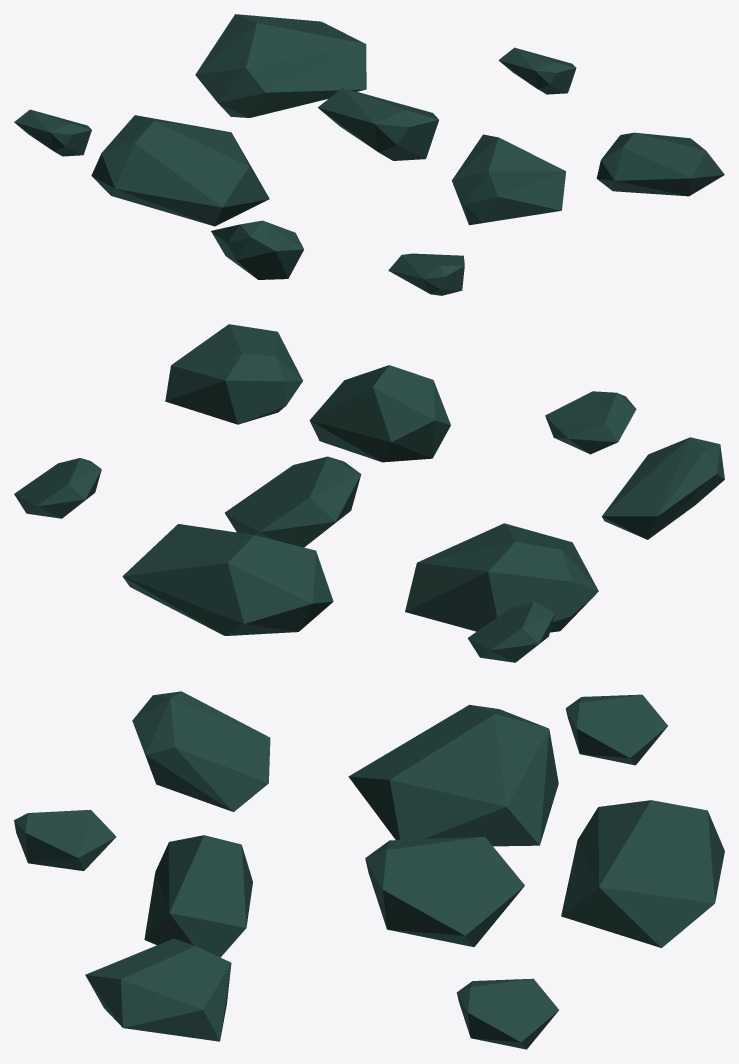
The model's file is m_collapse.glb.
3 views of the same model, one above another, from view 1: azimuth 30°, elevation 25°; view 2: azimuth 150°, elevation 25°; view 3: azimuth 270°, elevation 25° (orthographic). The views are drawn at different scales.
Visible parts, largest first — view 1: M_Collapse.008, M_Collapse.001, M_Collapse, M_Collapse.002, M_Collapse.006, M_Collapse.007, M_Collapse.005, M_Collapse.004, M_Collapse.003; view 2: M_Collapse.008, M_Collapse.001, M_Collapse, M_Collapse.002, M_Collapse.006, M_Collapse.007, M_Collapse.005, M_Collapse.003, M_Collapse.004; view 3: M_Collapse.001, M_Collapse.008, M_Collapse.006, M_Collapse.007, M_Collapse.002, M_Collapse, M_Collapse.004, M_Collapse.003, M_Collapse.005.
Boxes of the visible parts, x1,y1,x2,y2 form: M_Collapse.008: [195, 14, 366, 117]; M_Collapse.001: [91, 115, 269, 226]; M_Collapse: [451, 134, 565, 225]; M_Collapse.002: [596, 132, 724, 196]; M_Collapse.006: [318, 88, 438, 160]; M_Collapse.007: [211, 220, 303, 279]; M_Collapse.005: [388, 253, 464, 295]; M_Collapse.004: [14, 109, 91, 156]; M_Collapse.003: [498, 47, 576, 94]; M_Collapse.008: [122, 524, 333, 635]; M_Collapse.001: [405, 523, 598, 632]; M_Collapse: [309, 365, 450, 462]; M_Collapse.002: [165, 324, 302, 424]; M_Collapse.006: [225, 456, 361, 547]; M_Collapse.007: [602, 437, 724, 539]; M_Collapse.005: [545, 391, 636, 454]; M_Collapse.003: [14, 458, 101, 518]; M_Collapse.004: [467, 602, 555, 662]; M_Collapse.001: [348, 704, 558, 846]; M_Collapse.008: [561, 800, 724, 947]; M_Collapse.006: [365, 836, 524, 946]; M_Collapse.007: [132, 691, 270, 811]; M_Collapse.002: [85, 938, 231, 1041]; M_Collapse: [144, 835, 252, 957]; M_Collapse.004: [565, 694, 667, 765]; M_Collapse.003: [456, 978, 558, 1049]; M_Collapse.005: [14, 809, 116, 870].
Bounding box in the file's own units: 1.59 × 0.2682 × 1.54.
1 material, 1 textured.
